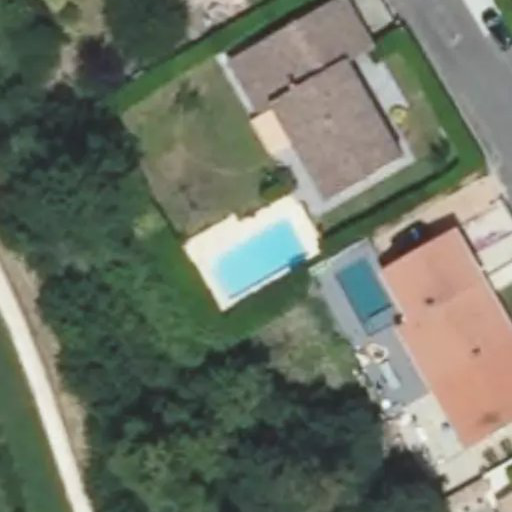pool: (196, 233, 309, 239)
